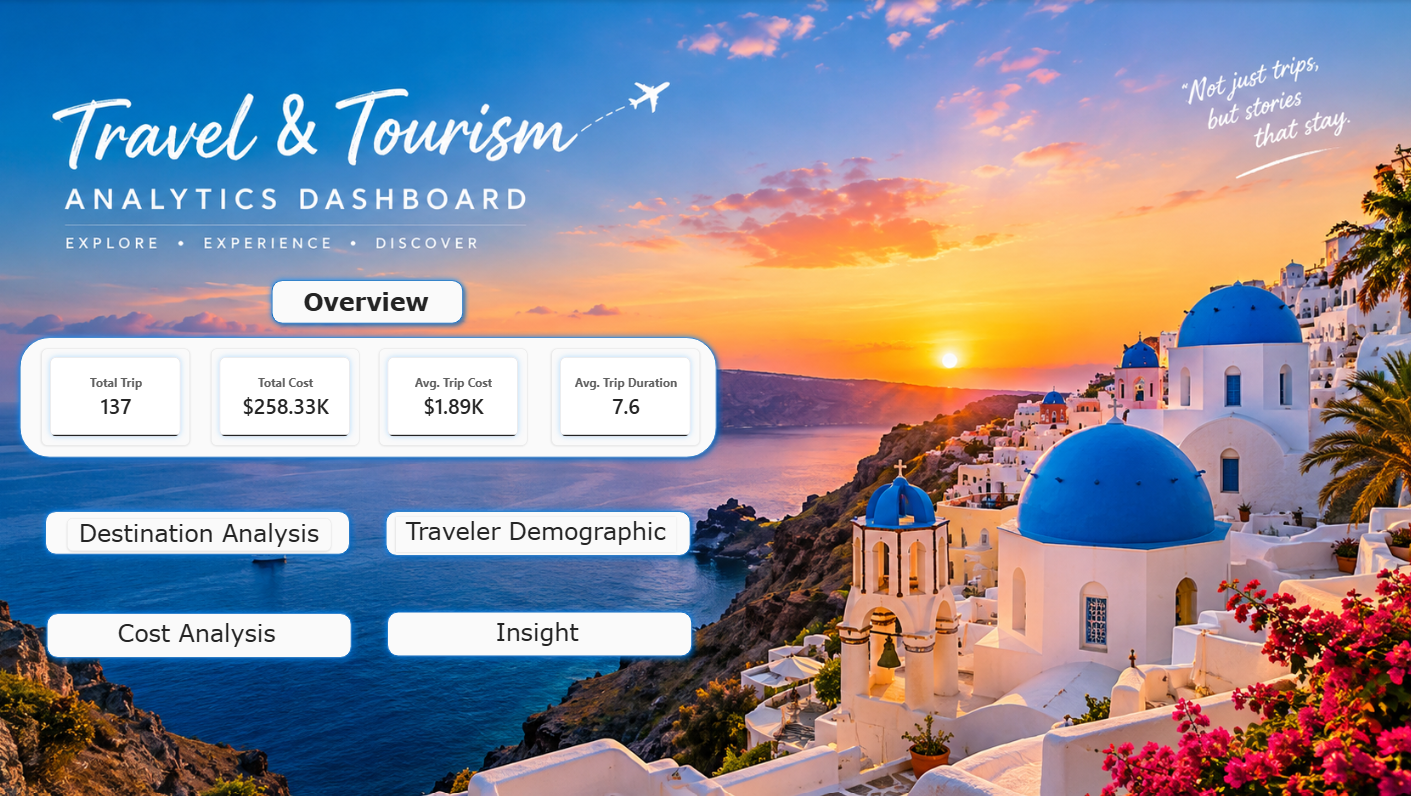

What the dashboard file says about the page in this screenshot:
{"tool":"powerbi","page":{"name":"Page 1","canvas":[1920,1080],"ordinal":0},"visuals":[{"type":"group","id":"g1","title":"Group 2","box":[376.6,372.3,276.6,76.6],"z":0},{"type":"shape","box":[23.4,448.9,960,180.8],"z":0,"group":"g7"},{"type":"cardVisual","fields":{"Data":["CountNonNull(Travel details dataset.Trip ID)"]},"box":[62.1,472.6,200.5,131.5],"z":0,"group":"g2"},{"type":"group","id":"g2","title":"Group 1","box":[62.1,472.6,889,131.3],"z":1000,"group":"g7"},{"type":"cardVisual","fields":{"Data":["Sum(Travel details dataset.Total Cost)"]},"box":[291.9,472.6,200.4,131.4],"z":1000,"group":"g2"},{"type":"group","id":"g3","title":"Group 2","box":[514.9,678.7,429.8,78.7],"z":1000},{"type":"cardVisual","fields":{"Data":["Avg(Travel details dataset.Total Cost)"]},"box":[517.7,472.6,200.4,131.4],"z":2000,"group":"g2"},{"type":"group","id":"g4","title":"Group 2","box":[61.7,821.3,431.9,80.9],"z":2000},{"type":"cardVisual","fields":{"Data":["Avg(Travel details dataset.Duration (days))"]},"box":[751.5,472.6,200.4,131.4],"z":3000,"group":"g2"},{"type":"group","id":"g5","title":"Group 2","box":[521.3,819.1,429.8,78.7],"z":3000},{"type":"shape","box":[376.6,372.3,276.6,76.6],"z":4000,"group":"g1"},{"type":"shape","box":[514.9,678.7,430.2,78.2],"z":4000,"group":"g3"},{"type":"group","id":"g6","title":"Group 2","box":[59.6,683,429.8,76.6],"z":4000},{"type":"shape","box":[59.6,683,429.8,76.6],"z":4000,"group":"g6"},{"type":"shape","box":[521.3,819.1,430.2,78.2],"z":4000,"group":"g5"},{"type":"shape","box":[61.7,821.3,430.2,78.2],"z":4000,"group":"g4"},{"type":"group","id":"g7","title":"Group 3","box":[23.4,448.9,959.6,180.9],"z":5000},{"type":"textbox","box":[404.2,385.7,219.3,46.8],"z":7001,"group":"g1"},{"type":"textbox","box":[537.5,695.7,378.7,47.3],"z":7001,"group":"g3"},{"type":"textbox","box":[97.4,701.1,357.1,44.7],"z":7001,"group":"g6"},{"type":"textbox","box":[543.9,836.1,378.7,47.3],"z":7001,"group":"g5"},{"type":"textbox","box":[84.3,838.3,378.7,47.3],"z":7001,"group":"g4"}]}

Visuals, with their boxes in screenshot pixels (x1, y1, x2, y2), scaled from the page's 1920x1080 canvas onto the 1411x796 screenshot:
"Group 2" group: x1=277, y1=274, x2=480, y2=331
shape: x1=17, y1=331, x2=723, y2=464
cardVisual - CountNonNull(Travel details dataset.Trip ID): x1=46, y1=348, x2=193, y2=445
"Group 1" group: x1=46, y1=348, x2=699, y2=445
cardVisual - Sum(Travel details dataset.Total Cost): x1=215, y1=348, x2=362, y2=445
"Group 2" group: x1=378, y1=500, x2=694, y2=558
cardVisual - Avg(Travel details dataset.Total Cost): x1=380, y1=348, x2=528, y2=445
"Group 2" group: x1=45, y1=605, x2=363, y2=665
cardVisual - Avg(Travel details dataset.Duration (days)): x1=552, y1=348, x2=700, y2=445
"Group 2" group: x1=383, y1=604, x2=699, y2=662
shape: x1=277, y1=274, x2=480, y2=331
shape: x1=378, y1=500, x2=695, y2=558
"Group 2" group: x1=44, y1=503, x2=360, y2=560
shape: x1=44, y1=503, x2=360, y2=560
shape: x1=383, y1=604, x2=699, y2=661
shape: x1=45, y1=605, x2=361, y2=663
"Group 3" group: x1=17, y1=331, x2=722, y2=464
textbox: x1=297, y1=284, x2=458, y2=319
textbox: x1=395, y1=513, x2=673, y2=548
textbox: x1=72, y1=517, x2=334, y2=550
textbox: x1=400, y1=616, x2=678, y2=651
textbox: x1=62, y1=618, x2=340, y2=653
